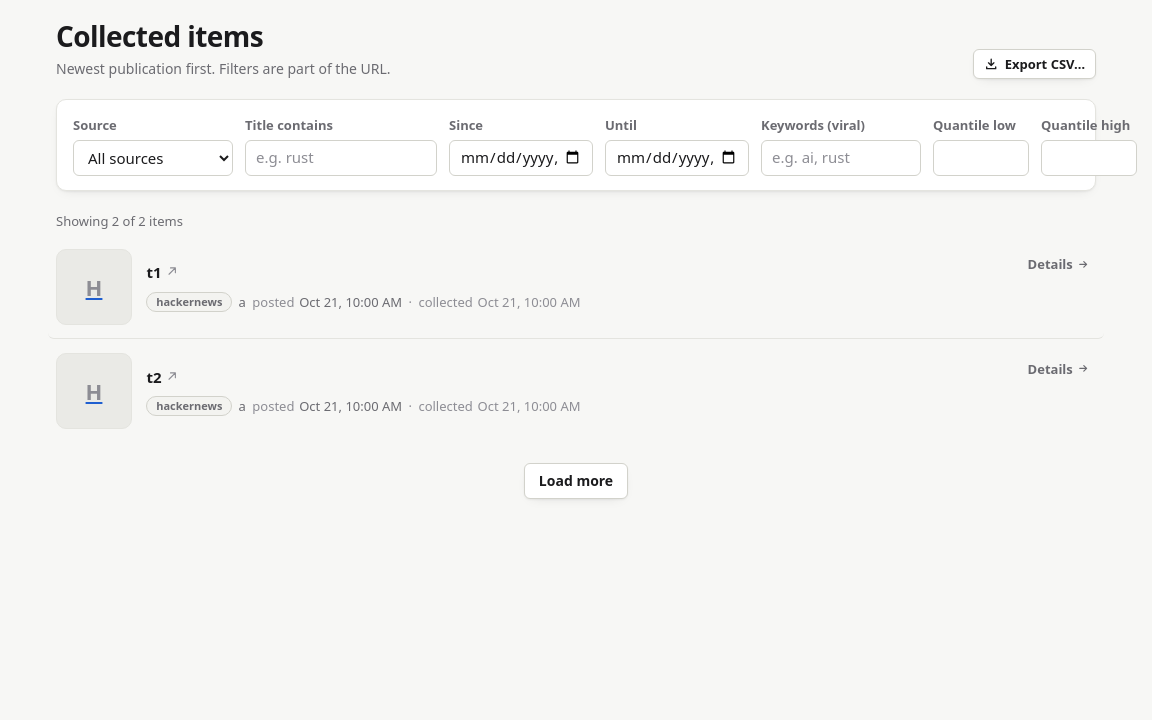
ItemsView › walks two pages without duplicating or skipping rows
Click the button "Load more": x=576, y=480 [524, 462, 628, 498]
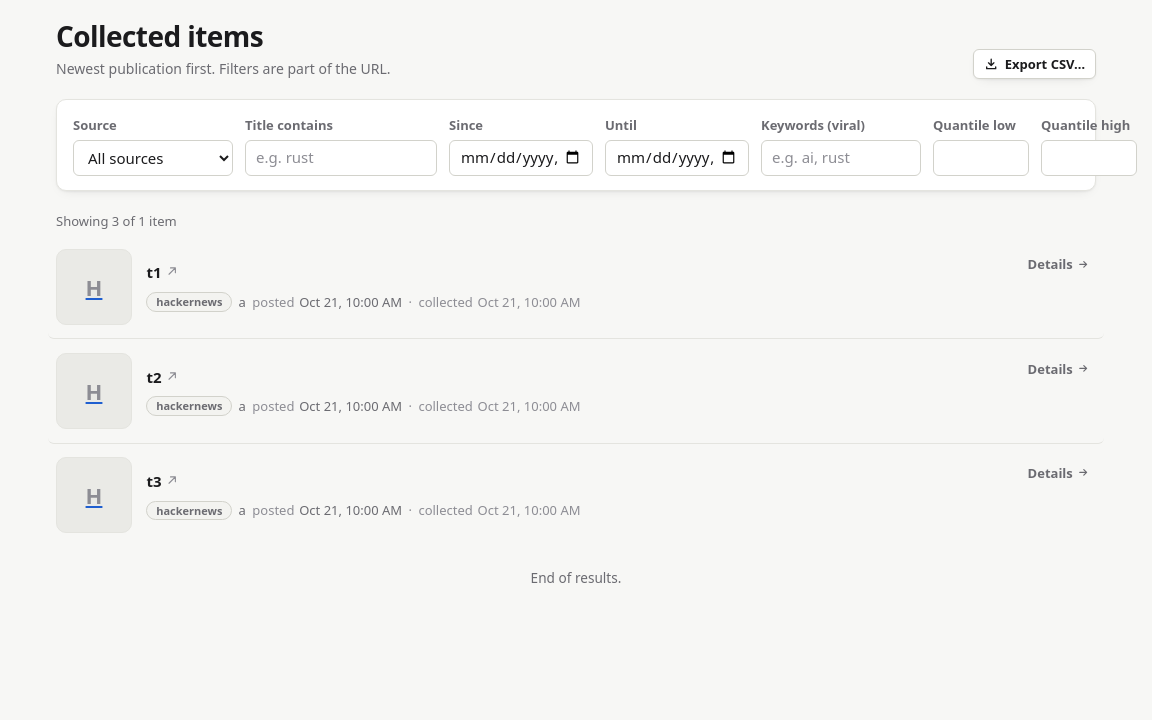
Check: the elements with class "item-card__title" read "t1", "t2", "t3", in this order, box [146, 262, 178, 283]; [146, 367, 178, 387]; [146, 471, 178, 491]
